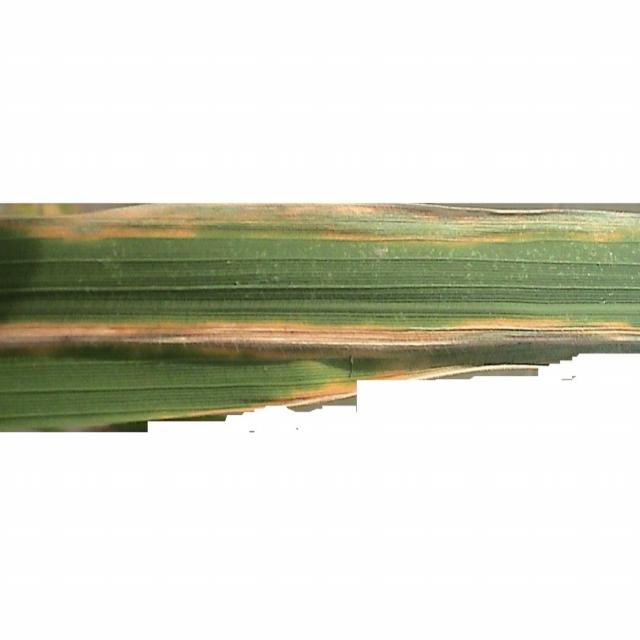leaf blight: (0, 290, 640, 362), (0, 200, 640, 238)
